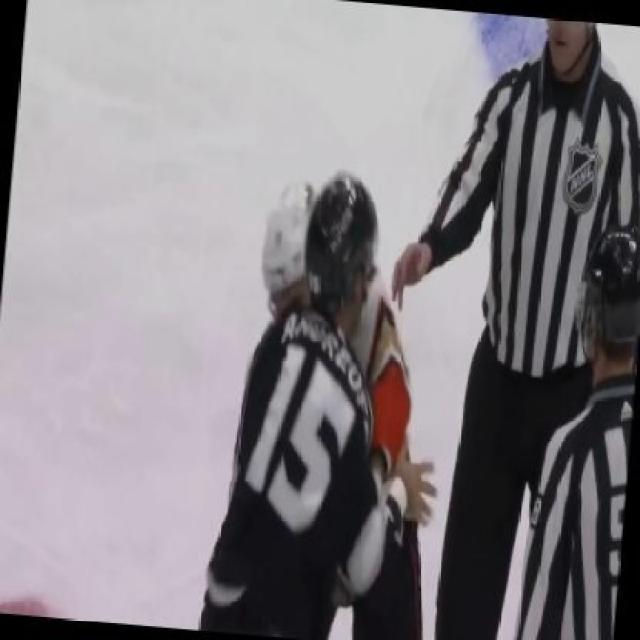fight: (202, 174, 440, 638)
non-fight: (385, 4, 638, 638)
